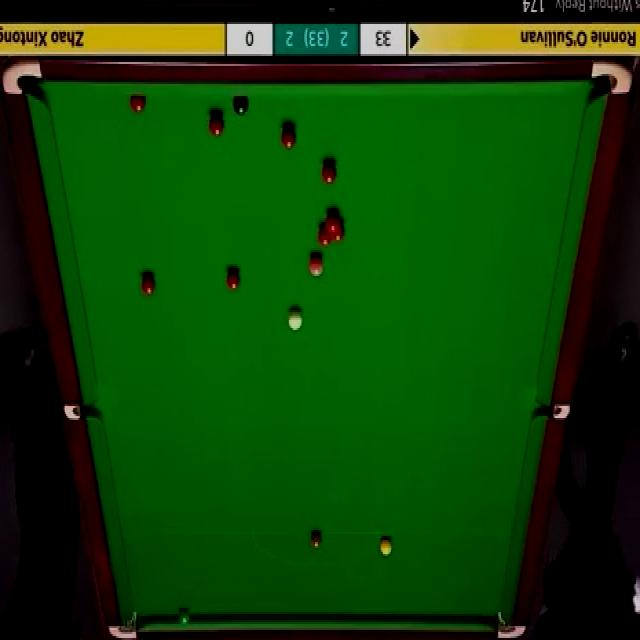black-ball: (233, 95, 247, 117)
brown-ball: (310, 532, 322, 552)
green-ball: (180, 610, 190, 628)
pink-ball: (308, 253, 323, 279)
red-ball: (320, 159, 338, 185), (208, 110, 225, 136), (280, 124, 296, 151), (224, 270, 241, 292), (142, 271, 156, 296), (332, 218, 346, 242), (318, 222, 331, 246), (324, 210, 340, 229), (129, 97, 146, 114)
white-ball: (286, 310, 302, 332)
yellow-ball: (381, 538, 393, 554)
